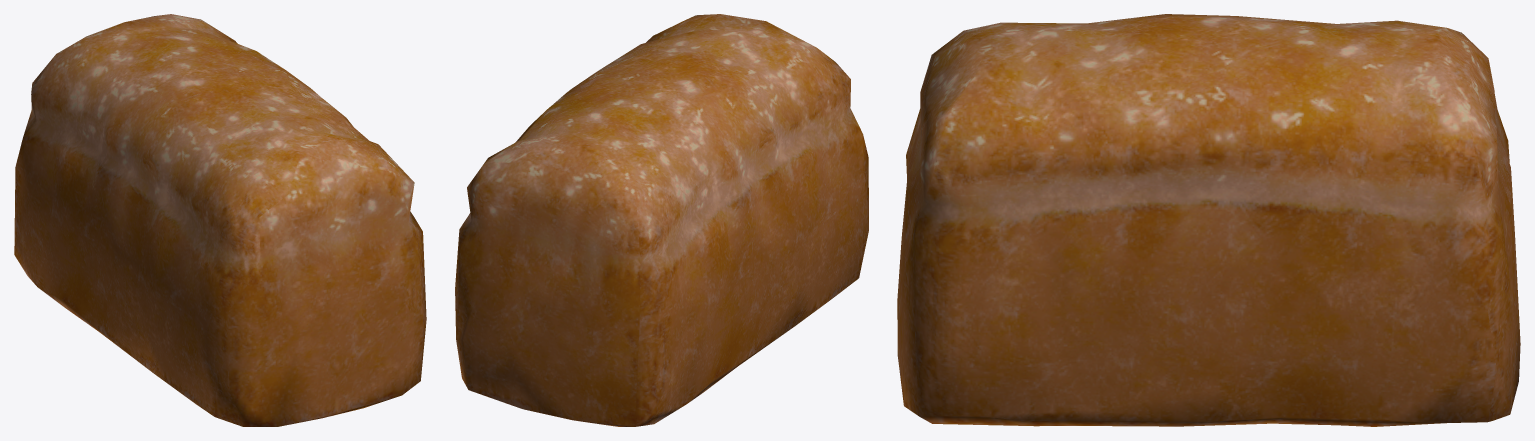
The model's file is Bread_6_bread3_a_mesh.obj.
The picture shows the model from 3 angles, left to right: view 1: azimuth 30°, elevation 25°; view 2: azimuth 150°, elevation 25°; view 3: azimuth 270°, elevation 25°; orthographic projection. The views are drawn at different scales.
Bounding box in the file's own units: 0.1381 × 0.1568 × 0.2617.
